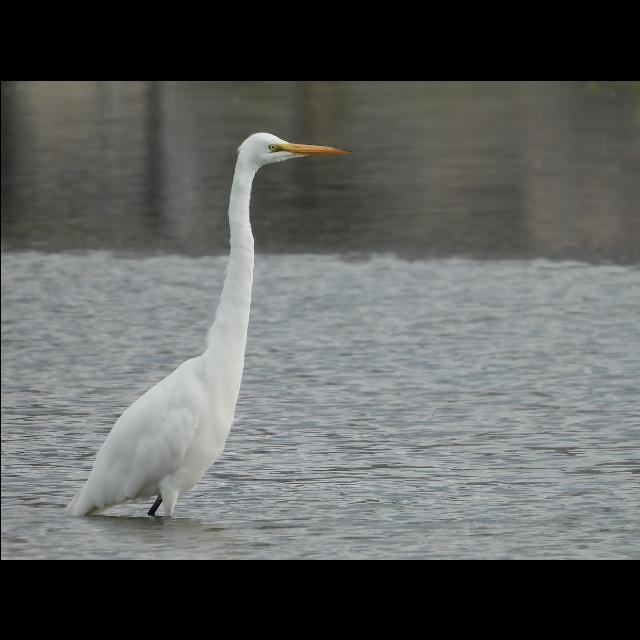egret: (67, 125, 363, 541)
